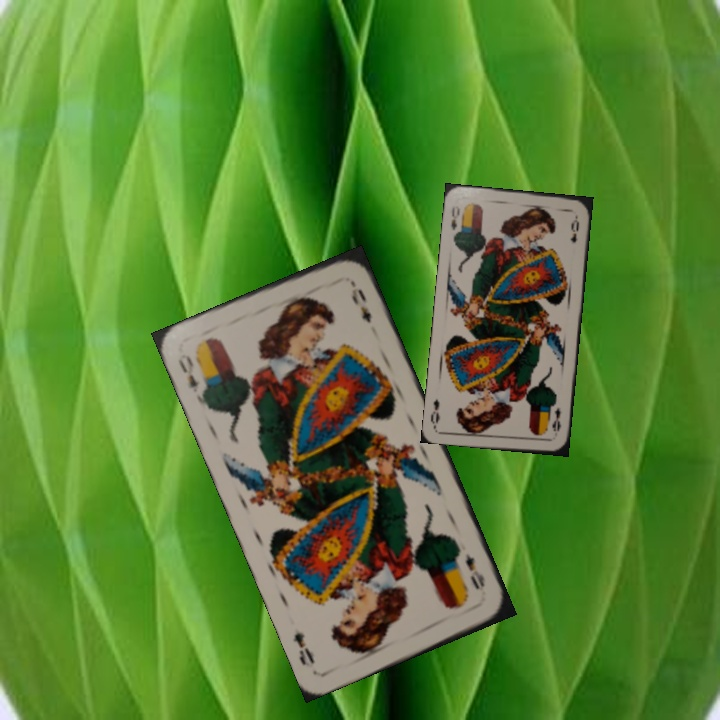EO: (173, 350, 211, 404), (461, 549, 487, 592), (548, 403, 564, 434), (447, 202, 462, 232)
